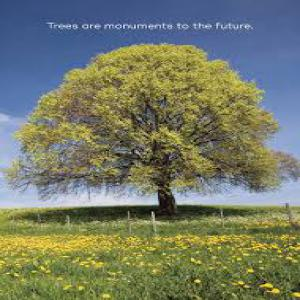Tree: (13, 41, 284, 214)
